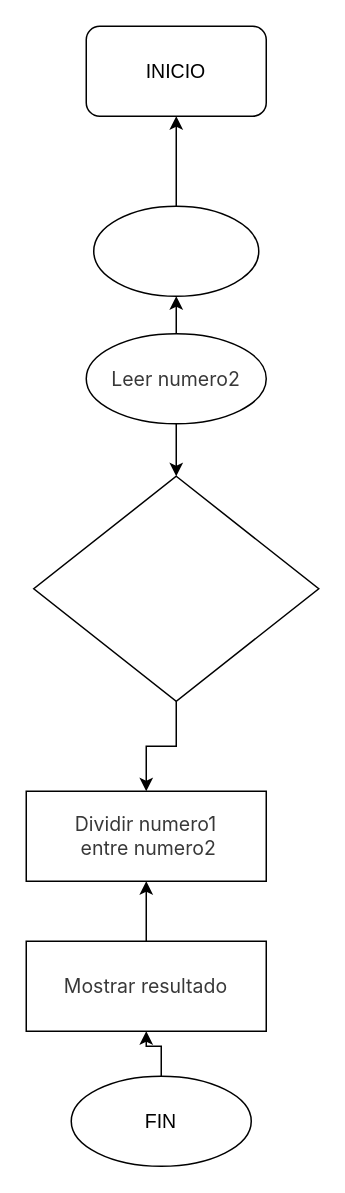
The diagram is 345 pixels wide and 1193 high, and some of its shapes have lost their labels. The centre of each missing label's shape, as x and y in pixels:
Leer numero1: the point at 175,250
¿numero2 != 0?: the point at 175,588
